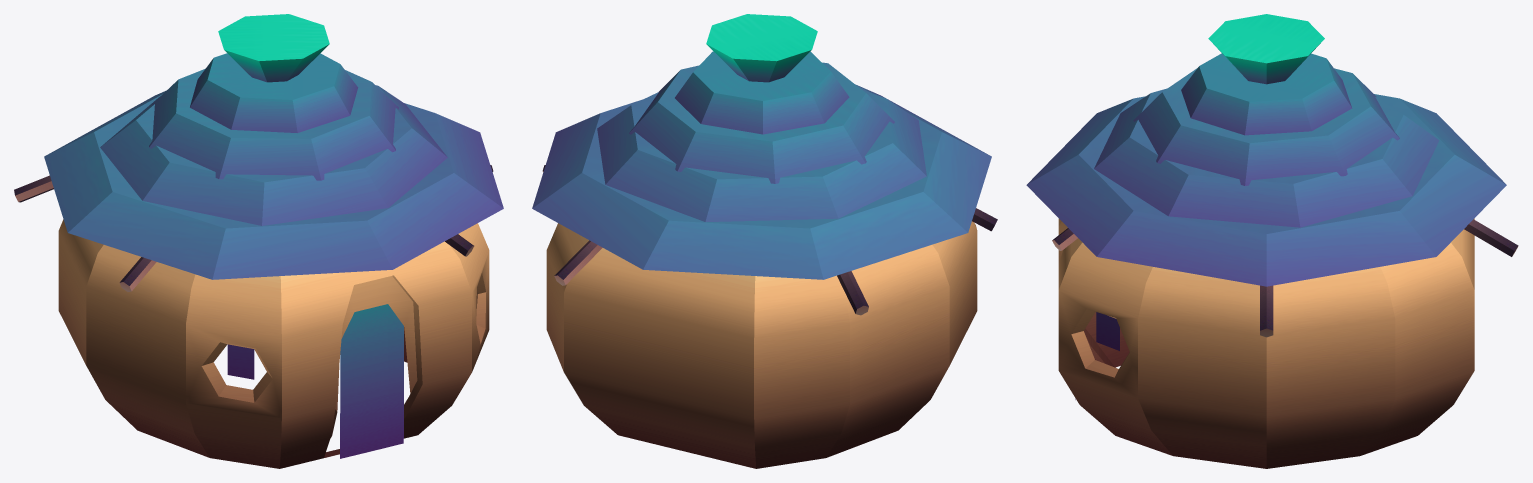
File: Hut.fbx
3 renders of one model, left to right at view 1: azimuth 30°, elevation 25°; view 2: azimuth 150°, elevation 25°; view 3: azimuth 270°, elevation 25°, orthographic.
Parts seen in each view (by area): view 1: pCylinder12; view 2: pCylinder12; view 3: pCylinder12.
Part boxes in pixels (x1,y1,x2,y2): pCylinder12: (14, 14, 503, 468); pCylinder12: (532, 14, 997, 468); pCylinder12: (1026, 14, 1518, 468).
Bounding box in the file's own units: 5.28 × 4.28 × 5.26.
